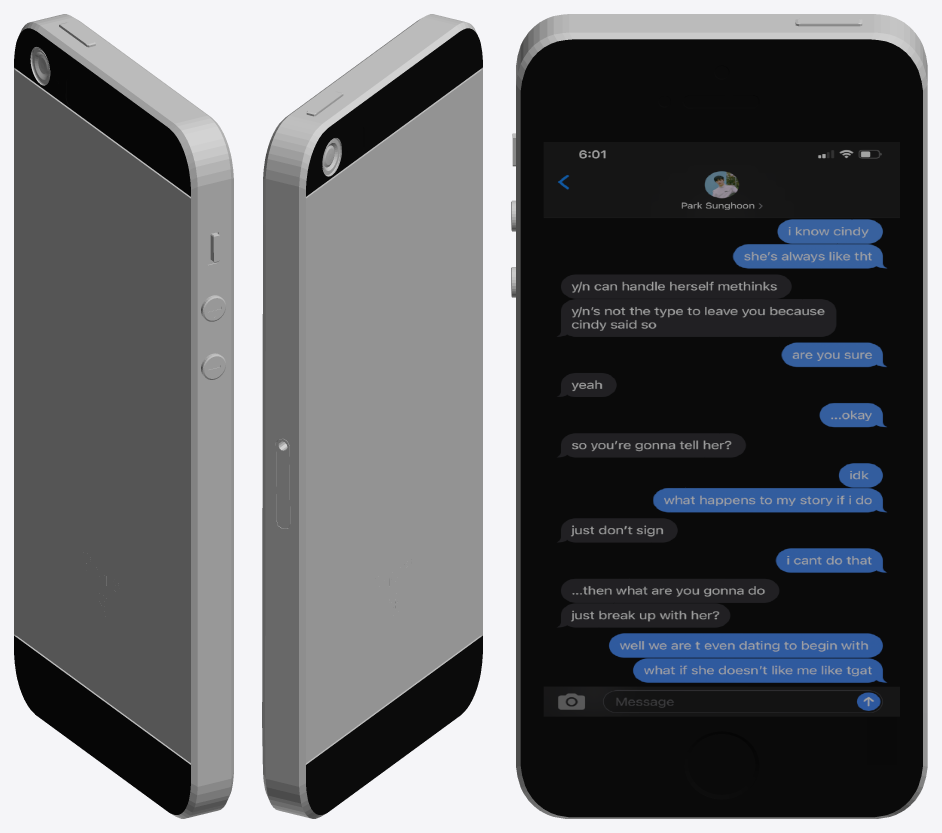
Rendered from phone.glb.
3 views of the same model, side by side, from view 1: azimuth 30°, elevation 25°; view 2: azimuth 150°, elevation 25°; view 3: azimuth 270°, elevation 25° (orthographic). The views are drawn at different scales.
Parts seen in each view (by area): view 1: Phone_Cube; view 2: Phone_Cube; view 3: Plane, Phone_Cube.
Boxes of the visible parts, x1=… form: Phone_Cube: x1=14, y1=14, x2=233, y2=818; Phone_Cube: x1=262, y1=14, x2=482, y2=818; Plane: x1=543, y1=142, x2=899, y2=716; Phone_Cube: x1=511, y1=14, x2=927, y2=818.
Bounding box in the file's own units: 0.1261 × 1.86 × 0.8877.
10 materials, 1 textured.
